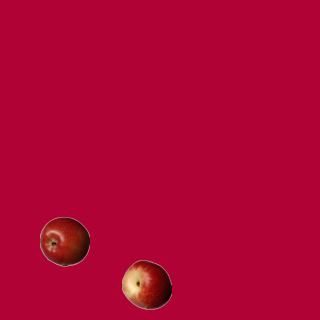Apple Braeburn: (39, 216, 89, 266)
Nectarine: (121, 259, 171, 309)
